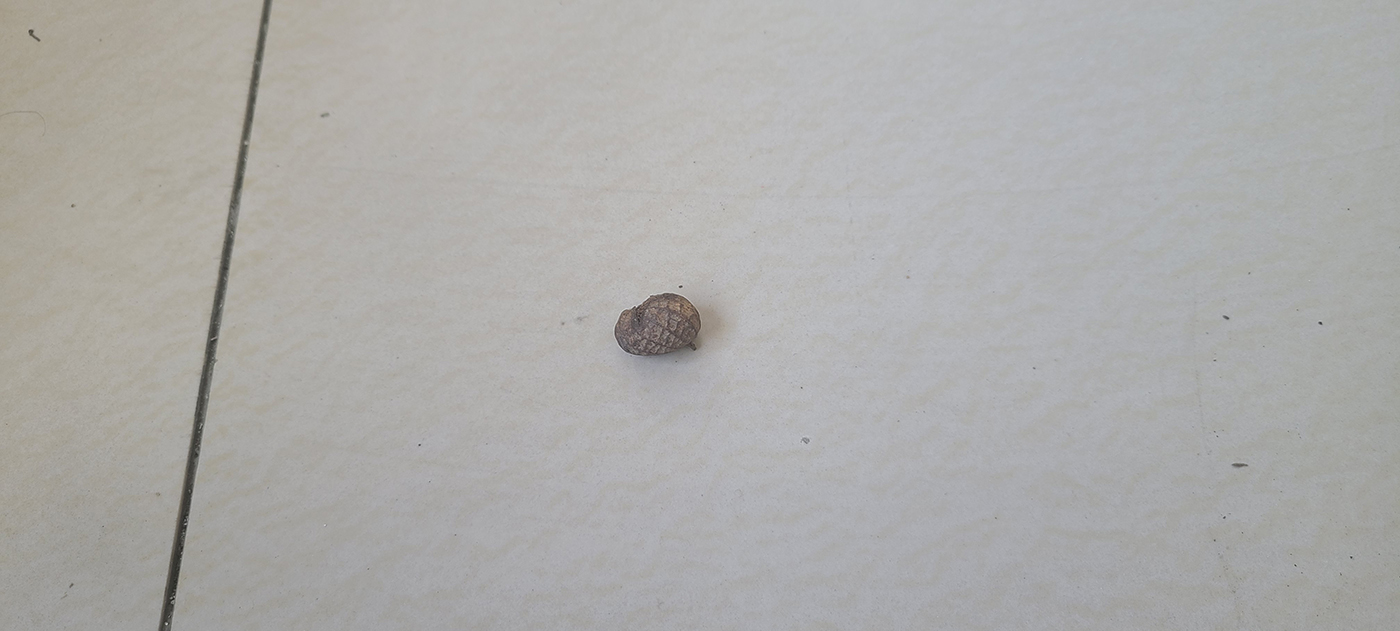l: (614, 292, 702, 359)
